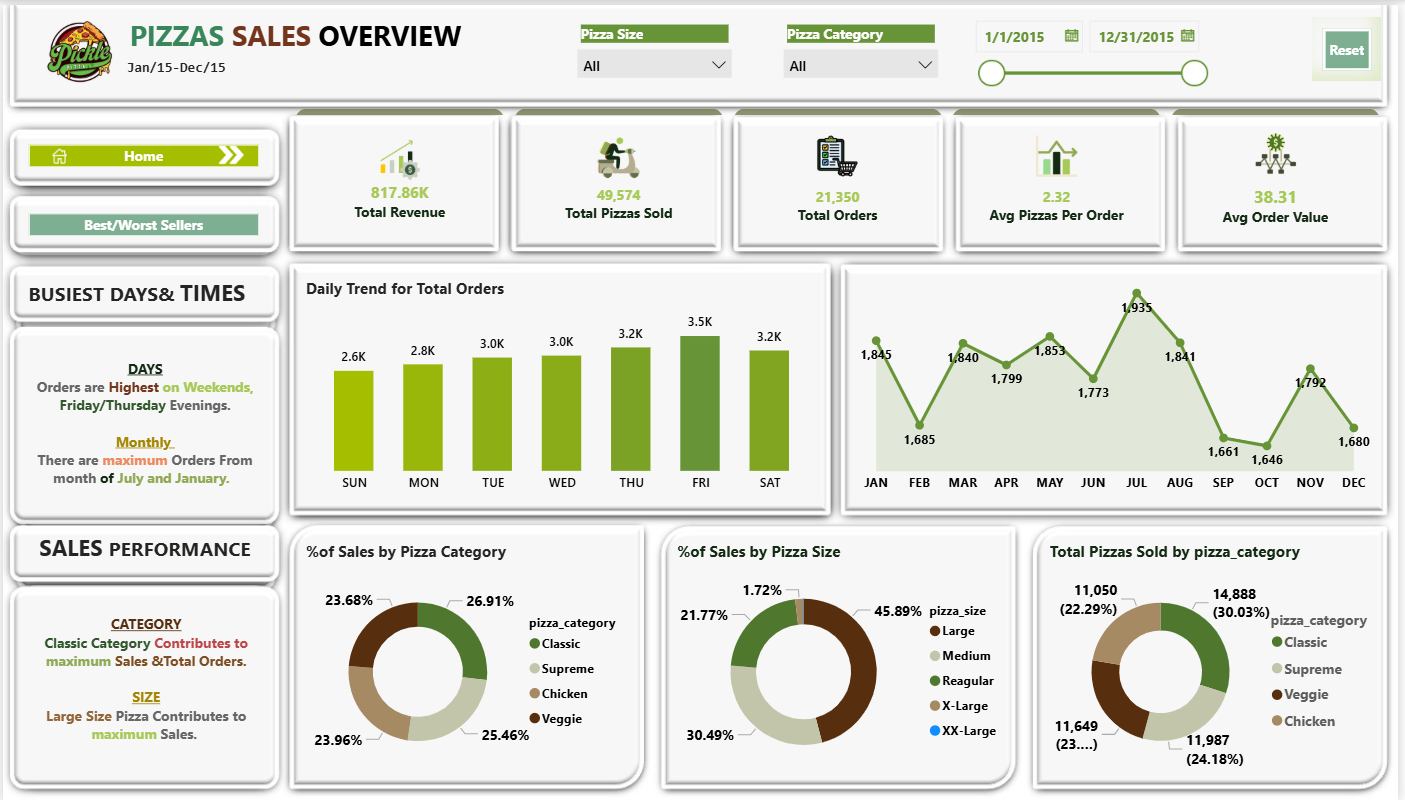

What the dashboard file says about the page in this screenshot:
{"tool":"powerbi","page":{"name":" Home","canvas":[1344,768],"ordinal":0},"visuals":[{"type":"cardVisual","fields":{"Data":["DAX Measuers.Total Revenue","DAX Measuers.Total Pizzas Sold","DAX Measuers.Total Orders","DAX Measuers.Avg Pizzas Per Order","DAX Measuers.Avg Order Value"]},"box":[282,100,1047,136],"z":0},{"type":"clusteredColumnChart","title":"Daily Trend for Total Orders","fields":{"Category":["pizza_sales.Order Day"],"Y":["DAX Measuers.Total Orders"]},"box":[282,252,514,232],"z":1000},{"type":"stackedAreaChart","title":"Monthly Trend for Total Orders","fields":{"Category":["pizza_sales.Order Month"],"Y":["DAX Measuers.Total Orders"]},"box":[814.8,250.9,513.9,232.4],"z":2000},{"type":"donutChart","title":"%of Sales by Pizza Category","fields":{"Category":["pizza_sales.pizza_category"],"Y":["DAX Measuers.Total Revenue"]},"box":[282,506,331,238],"z":3000},{"type":"donutChart","title":"%of Sales by Pizza Size","fields":{"Y":["DAX Measuers.Total Revenue"],"Category":["pizza_sales.pizza_size"]},"box":[640,506,331,238],"z":4000},{"type":"donutChart","fields":{"Category":["pizza_sales.pizza_category"],"Y":["DAX Measuers.Total Pizzas Sold"]},"box":[999,506,330,238],"z":5000},{"type":"pageNavigator","box":[14.5,124.1,242.2,42.2],"z":6000},{"type":"pageNavigator","box":[14.5,190.4,242.2,42.2],"z":7000},{"type":"textbox","box":[21,336,233,162],"z":8000},{"type":"textbox","box":[14,252,242,50],"z":9000},{"type":"textbox","box":[21,498,233,52],"z":10000},{"type":"textbox","box":[21,565,235,179],"z":11000},{"type":"textbox","box":[111,0,342,74],"z":12000},{"type":"textbox","box":[102.4,45.8,128.9,27.7],"z":13000},{"type":"slicer","fields":{"Values":["pizza_sales.pizza_size"]},"box":[539,8,179,74],"z":14000},{"type":"slicer","fields":{"Values":["pizza_sales.pizza_category"]},"box":[737,8,179,74],"z":15000},{"type":"slicer","fields":{"Values":["pizza_sales.order_date"]},"box":[919,0,245,91],"z":16000},{"type":"image","box":[34.6,133.7,39.4,24],"z":17000},{"type":"image","box":[200,128,40,34],"z":18000},{"type":"image","box":[13.9,0,119.4,90.7],"z":19000},{"type":"actionButton","box":[1261.4,12,67.5,61.4],"z":20000}]}

Visuals, with their boxes in screenshot pixels (x1, y1, x2, y2), scaled from the page's 1344x768 canvas onto the 1405x800 screenshot:
cardVisual - DAX Measuers.Total Revenue x DAX Measuers.Total Pizzas Sold: <region>295, 104, 1389, 246</region>
"Daily Trend for Total Orders" clusteredColumnChart: <region>295, 262, 832, 504</region>
"Monthly Trend for Total Orders" stackedAreaChart: <region>852, 261, 1389, 503</region>
"%of Sales by Pizza Category" donutChart: <region>295, 527, 641, 775</region>
"%of Sales by Pizza Size" donutChart: <region>669, 527, 1015, 775</region>
donutChart - pizza_sales.pizza_category x DAX Measuers.Total Pizzas Sold: <region>1044, 527, 1389, 775</region>
pageNavigator: <region>15, 129, 268, 173</region>
pageNavigator: <region>15, 198, 268, 242</region>
textbox: <region>22, 350, 266, 519</region>
textbox: <region>15, 262, 268, 315</region>
textbox: <region>22, 519, 266, 573</region>
textbox: <region>22, 589, 268, 775</region>
textbox: <region>116, 0, 474, 77</region>
textbox: <region>107, 48, 242, 77</region>
slicer - pizza_sales.pizza_size: <region>563, 8, 751, 85</region>
slicer - pizza_sales.pizza_category: <region>770, 8, 958, 85</region>
slicer - pizza_sales.order_date: <region>961, 0, 1217, 95</region>
image: <region>36, 139, 77, 164</region>
image: <region>209, 133, 251, 169</region>
image: <region>15, 0, 139, 94</region>
actionButton: <region>1319, 12, 1389, 76</region>
